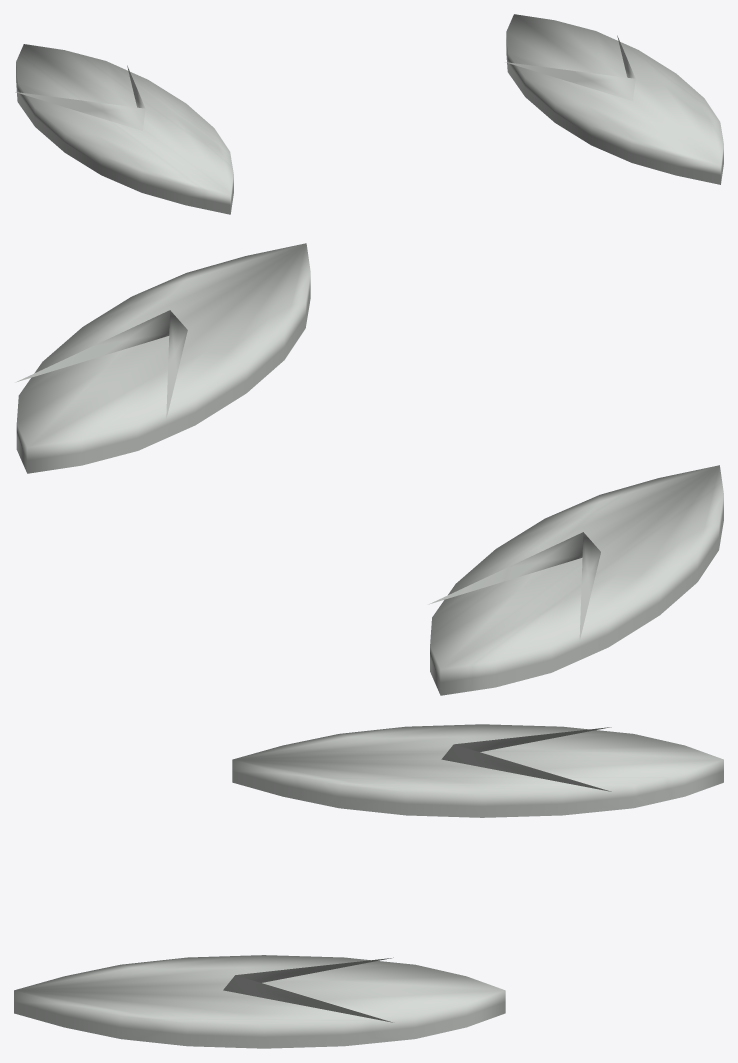
The model's file is Dep_Bo.glb.
3 renders of one model, top to bottom at view 1: azimuth 30°, elevation 25°; view 2: azimuth 150°, elevation 25°; view 3: azimuth 270°, elevation 25°, orthographic. The views are drawn at different scales.
Visible parts, largest first — view 1: geometry_0; view 2: geometry_0; view 3: geometry_0.
Part boxes in pixels (x1,y1,x2,y2): geometry_0: (15,14,723,214); geometry_0: (15,243,723,695); geometry_0: (14,724,723,1048).
Size of the model in its own units: 0.3917 by 0.026 by 0.39.
Materials: 1 (1 with a texture image).
